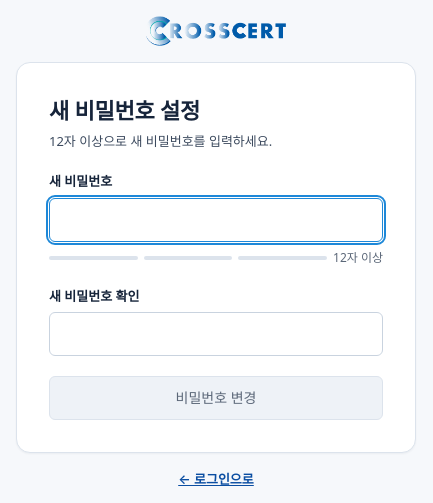
Scenario: ResetPasswordPage V3 › 성공하면 같은 카드에서 변경 완료 상태, 로그인으로 링크도 유지
The image size is (433, 503).
Type "password-12chars" into the password field labelled "새 비밀번호".
click(216, 220); type("password-12chars")  # box [49,198,383,242]
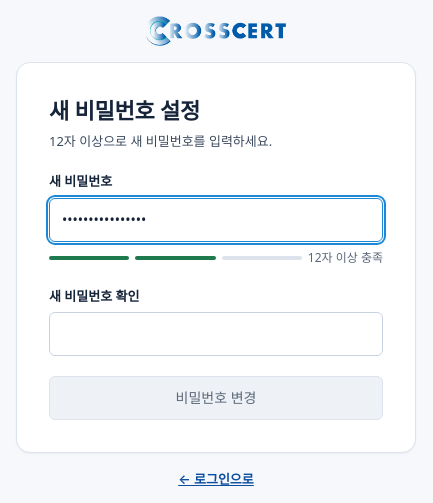
Type "password-12chars" into the password field labelled "새 비밀번호 확인".
click(216, 334); type("password-12chars")  # box [49,312,383,356]
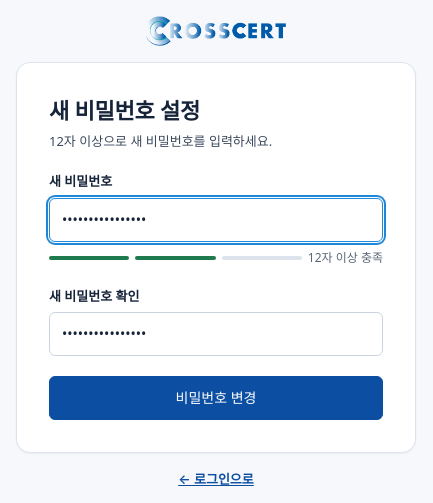
Click the button "비밀번호 변경".
click(216, 398)  # box [49,376,383,420]
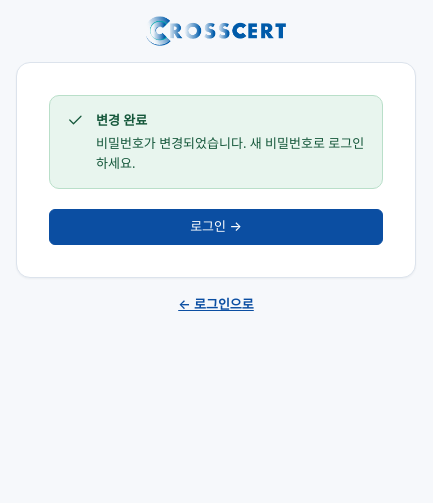
Now the text "변경 완료" is shown, box [96,111,147,129]
